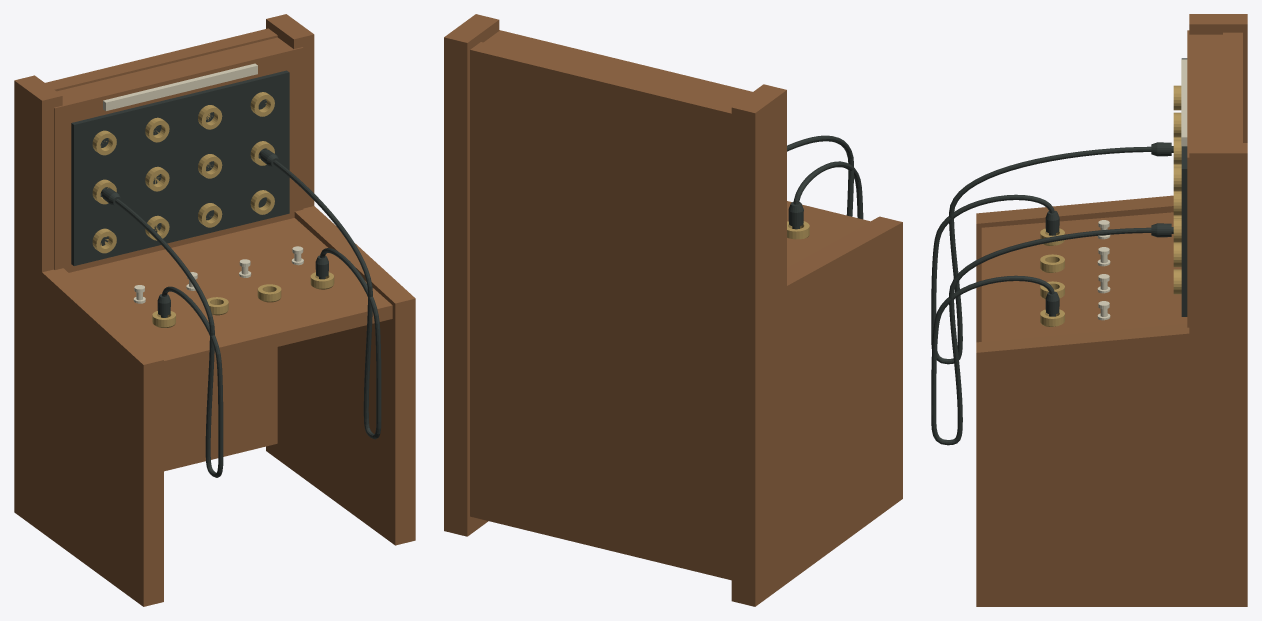
3 renders of one model, left to right at view 1: azimuth 30°, elevation 25°; view 2: azimuth 150°, elevation 25°; view 3: azimuth 270°, elevation 25°, orthographic. The views are drawn at different scales.
Parts seen in each view (by area): view 1: LeftWholeGroundedSidePedestal, RightWholeGroundedSidePedestal, WholeInsetDarkSocketFace, WholeSlopingFrontPlugDesk, WholeRearConsoleBack, WholeTallSocketBoard, WholeHangingConnectedCord0, WholeHangingConnectedCord3, WholeBlankUpperHeader; view 2: WholeRearConsoleBack, LeftWholeGroundedSidePedestal, RightWholeGroundedSidePedestal, WholeTallSocketBoard, WholeSlopingFrontPlugDesk, WholeHangingConnectedCord0; view 3: RightWholeGroundedSidePedestal, WholeSlopingFrontPlugDesk, LeftWholeGroundedSidePedestal, WholeTallSocketBoard, WholeHangingConnectedCord3, WholeHangingConnectedCord0, WholeRearConsoleBack, WholeInsetDarkSocketFace, WholeBlankUpperHeader.
Boxes of the visible parts, bbox=[...] form: LeftWholeGroundedSidePedestal: bbox=[14, 75, 163, 606]; RightWholeGroundedSidePedestal: bbox=[266, 14, 415, 545]; WholeInsetDarkSocketFace: bbox=[71, 70, 289, 265]; WholeSlopingFrontPlugDesk: bbox=[69, 218, 392, 374]; WholeRearConsoleBack: bbox=[45, 28, 277, 471]; WholeTallSocketBoard: bbox=[54, 37, 303, 272]; WholeHangingConnectedCord0: bbox=[115, 199, 223, 477]; WholeHangingConnectedCord3: bbox=[273, 160, 381, 439]; WholeBlankUpperHeader: bbox=[103, 63, 257, 110]; WholeRearConsoleBack: bbox=[470, 42, 735, 580]; LeftWholeGroundedSidePedestal: bbox=[731, 84, 902, 606]; RightWholeGroundedSidePedestal: bbox=[444, 14, 499, 536]; WholeTallSocketBoard: bbox=[483, 30, 752, 103]; WholeSlopingFrontPlugDesk: bbox=[787, 201, 869, 267]; WholeHangingConnectedCord0: bbox=[787, 135, 863, 219]; RightWholeGroundedSidePedestal: bbox=[976, 143, 1247, 606]; WholeSlopingFrontPlugDesk: bbox=[981, 212, 1187, 341]; LeftWholeGroundedSidePedestal: bbox=[976, 14, 1247, 342]; WholeTallSocketBoard: bbox=[1187, 30, 1222, 327]; WholeHangingConnectedCord3: bbox=[931, 227, 1151, 445]; WholeHangingConnectedCord0: bbox=[931, 146, 1151, 364]; WholeRearConsoleBack: bbox=[1223, 32, 1242, 142]; WholeInsetDarkSocketFace: bbox=[1181, 58, 1187, 316]; WholeBlankUpperHeader: bbox=[1181, 59, 1187, 146].
Bounding box in the file's own units: 0.93 × 1.41 × 0.8921.
